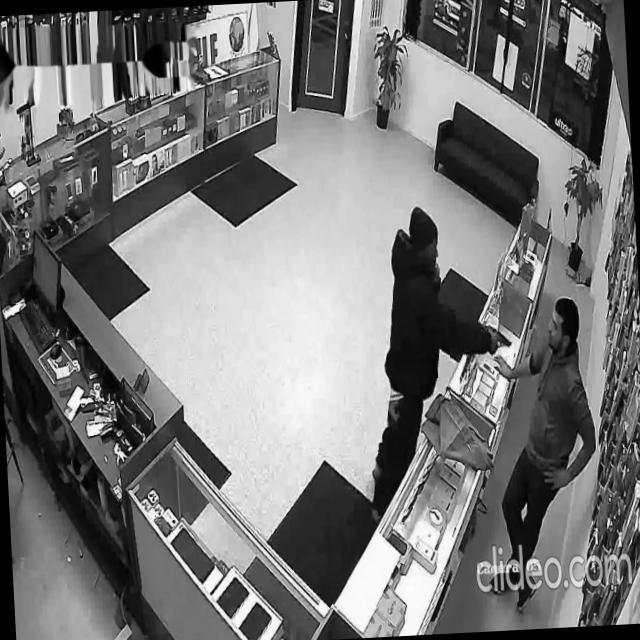gun: (489, 322, 513, 351)
person: (475, 294, 606, 614)
person with a gun: (357, 202, 520, 524)
